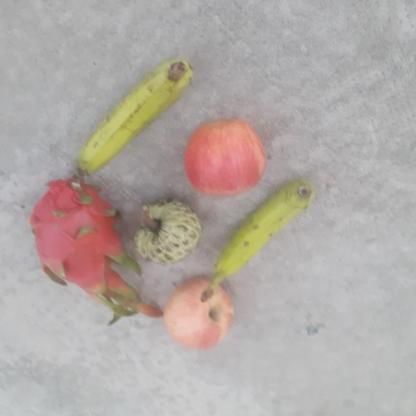annona: (134, 195, 202, 266)
apple: (178, 118, 268, 199), (162, 275, 236, 352)
banana: (199, 178, 318, 304), (77, 59, 195, 176)
pitaya: (30, 175, 126, 310)
